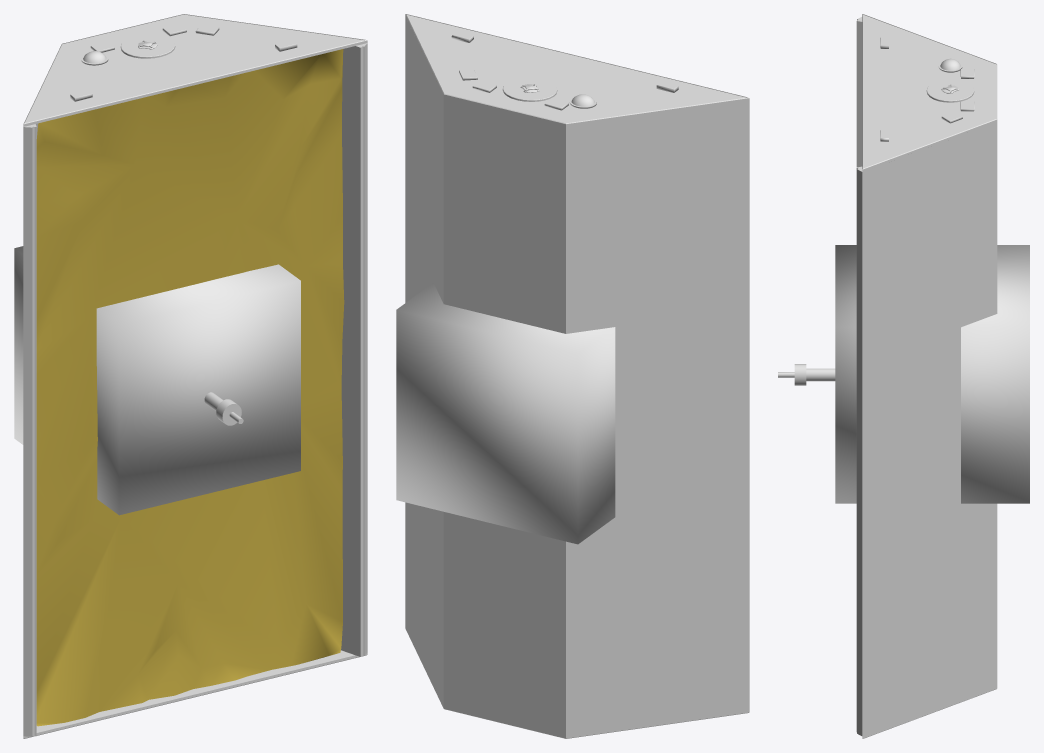
File: grace.glb
The picture shows the model from 3 angles, left to right: view 1: azimuth 30°, elevation 25°; view 2: azimuth 150°, elevation 25°; view 3: azimuth 270°, elevation 25°; orthographic projection. The views are drawn at different scales.
Visible parts, largest first — view 1: foil_silver, shiny_panel, _root; view 2: shiny_panel, _root; view 3: shiny_panel, _root.
Part boxes in pixels (x1,y1,x2,y2): foil_silver: (36,49,344,726); shiny_panel: (23,14,367,738); _root: (14,246,300,515); shiny_panel: (405,14,749,738); _root: (396,283,615,544); shiny_panel: (778,14,997,738); _root: (835,245,1029,503).
Size of the model in its own units: 1.89 by 3.29 by 1.3.
